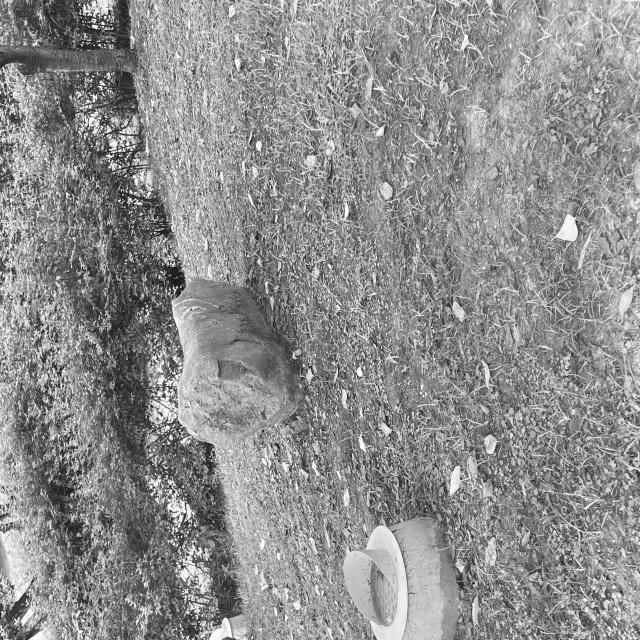Stone: (172, 279, 300, 446)
